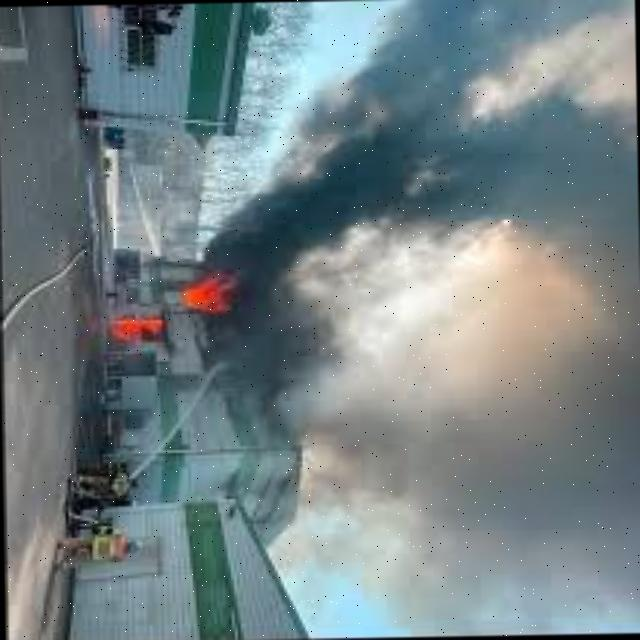explosion: (106, 18, 634, 448)
